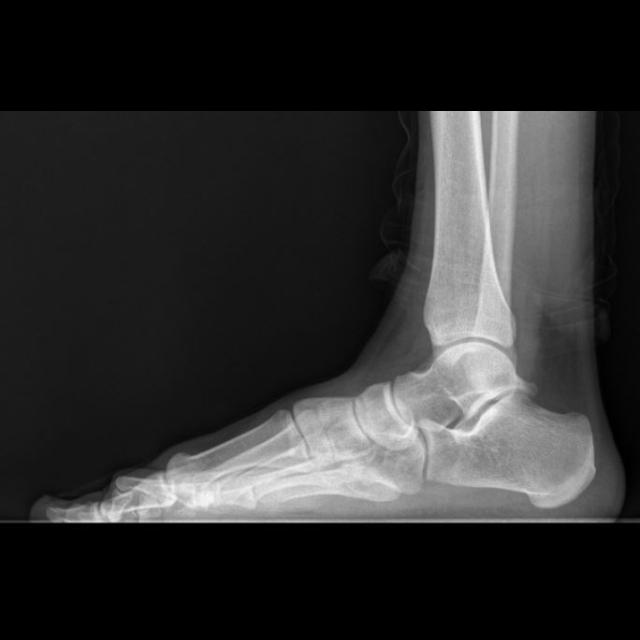a: (418, 390, 596, 508)
b: (356, 381, 420, 449)
c: (168, 409, 318, 496)
